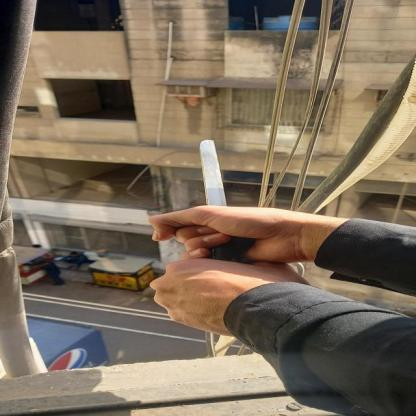Knife: (199, 139, 229, 204)
